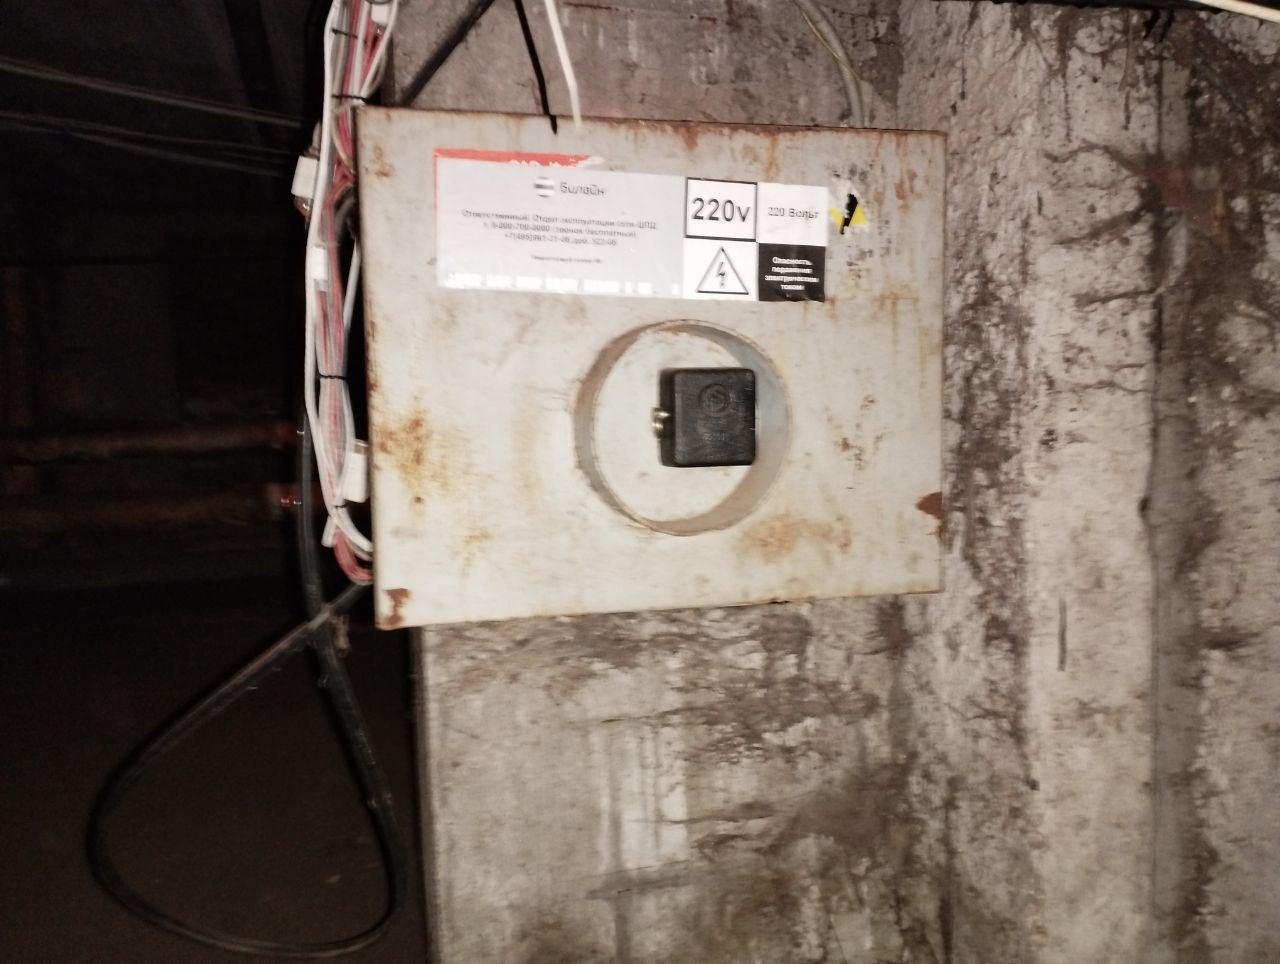shta-3: (349, 100, 951, 633)
